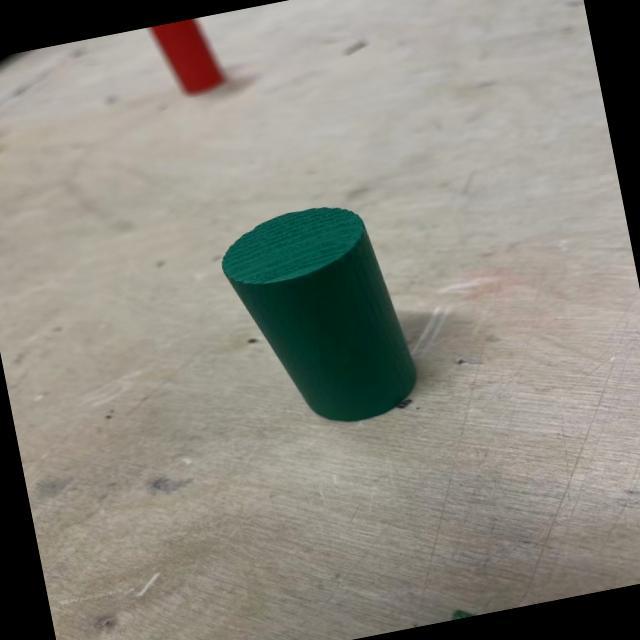green_cylinder: (212, 194, 425, 440)
